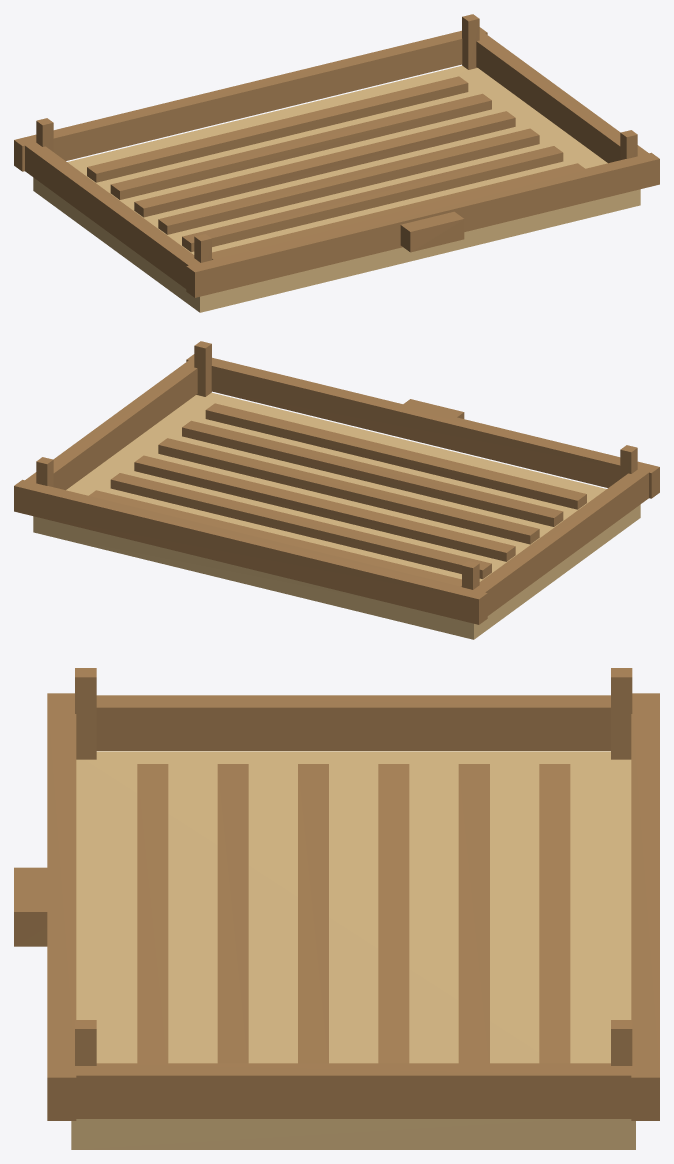
Rendered from Farm-Plot.glb.
The picture shows the model from 3 angles, top to bottom: view 1: azimuth 30°, elevation 25°; view 2: azimuth 150°, elevation 25°; view 3: azimuth 270°, elevation 25°; orthographic projection. The views are drawn at different scales.
Visible parts, largest first — view 1: wind-pump-static-farm-plot-timber-edge-mat, wind-pump-static-farm-plot-tilled-soil-mat, wind-pump-static-farm-plot-inlet-mat; view 2: wind-pump-static-farm-plot-timber-edge-mat, wind-pump-static-farm-plot-tilled-soil-mat, wind-pump-static-farm-plot-inlet-mat; view 3: wind-pump-static-farm-plot-timber-edge-mat, wind-pump-static-farm-plot-tilled-soil-mat, wind-pump-static-farm-plot-inlet-mat.
Boxes of the visible parts, x1,y1,x2,y2 form: wind-pump-static-farm-plot-timber-edge-mat: (14, 14, 659, 297); wind-pump-static-farm-plot-tilled-soil-mat: (33, 65, 640, 312); wind-pump-static-farm-plot-inlet-mat: (400, 211, 464, 252); wind-pump-static-farm-plot-timber-edge-mat: (14, 341, 659, 624); wind-pump-static-farm-plot-tilled-soil-mat: (33, 392, 640, 639); wind-pump-static-farm-plot-inlet-mat: (403, 399, 464, 418); wind-pump-static-farm-plot-timber-edge-mat: (47, 668, 659, 1120); wind-pump-static-farm-plot-tilled-soil-mat: (71, 751, 635, 1149); wind-pump-static-farm-plot-inlet-mat: (14, 867, 47, 946).
Bounding box in the file's own units: 1.9 × 0.275 × 1.35.
